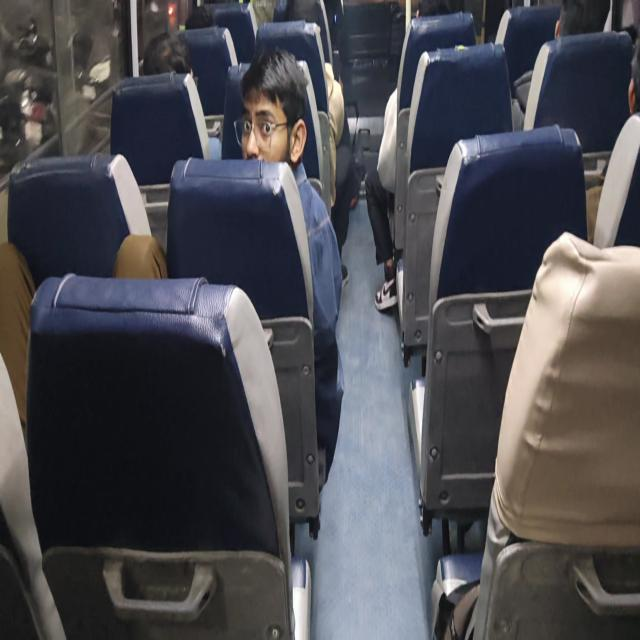person: (113, 46, 345, 488), (236, 47, 345, 485)
